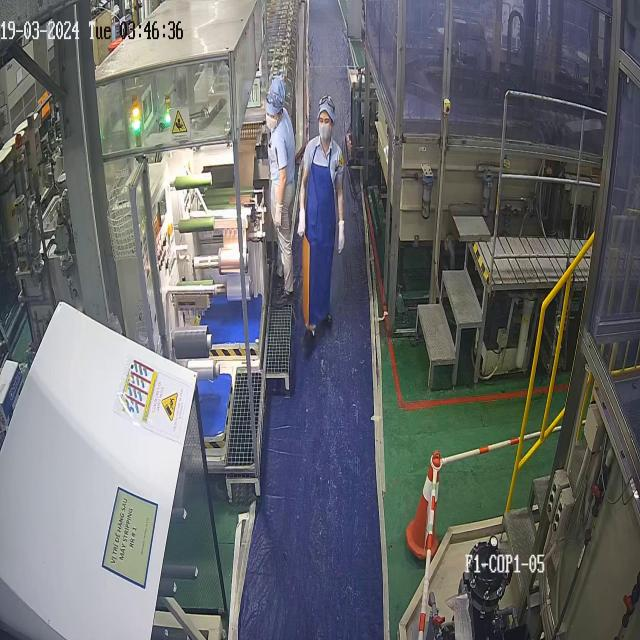Person: (297, 95, 345, 336), (264, 77, 296, 307)
